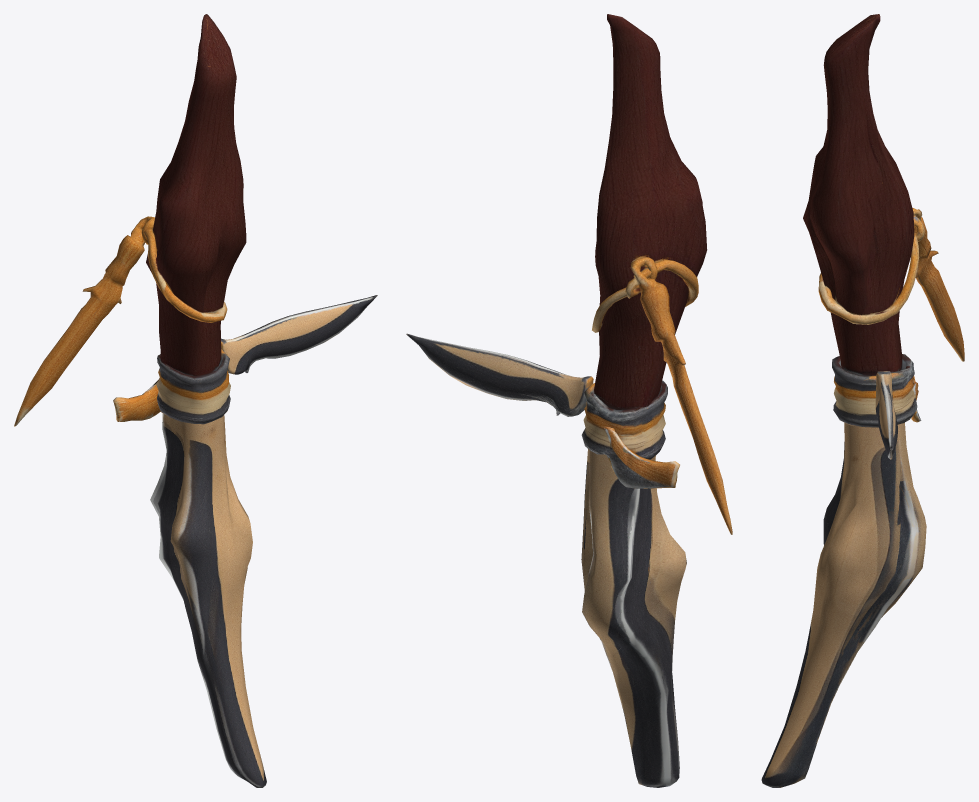
File: last-knife_refine.glb
3 views of the same model, side by side, from view 1: azimuth 30°, elevation 25°; view 2: azimuth 150°, elevation 25°; view 3: azimuth 270°, elevation 25° (orthographic). The views are drawn at different scales.
Size of the model in its own units: 0.4463 by 0.9517 by 0.2275.
1 material, 1 textured.
